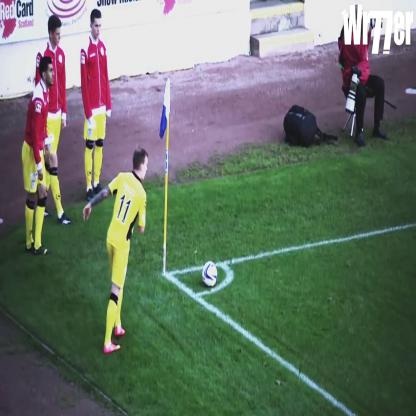corner kick: (108, 73, 252, 362)
